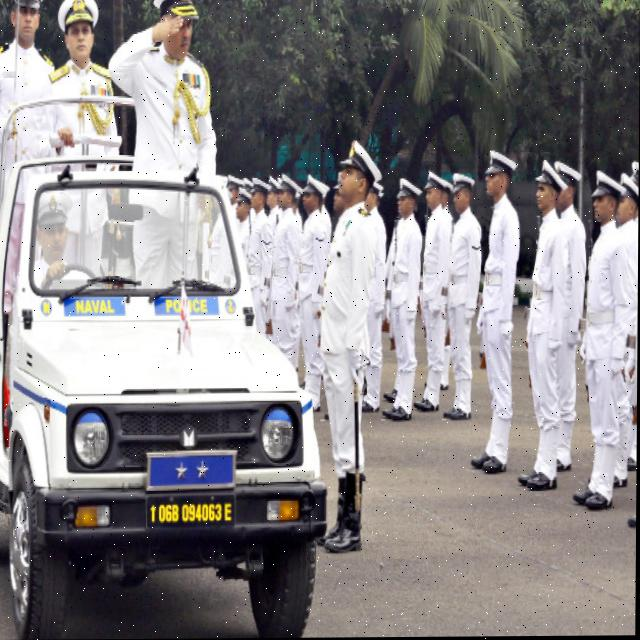plate: (141, 489, 242, 540)
